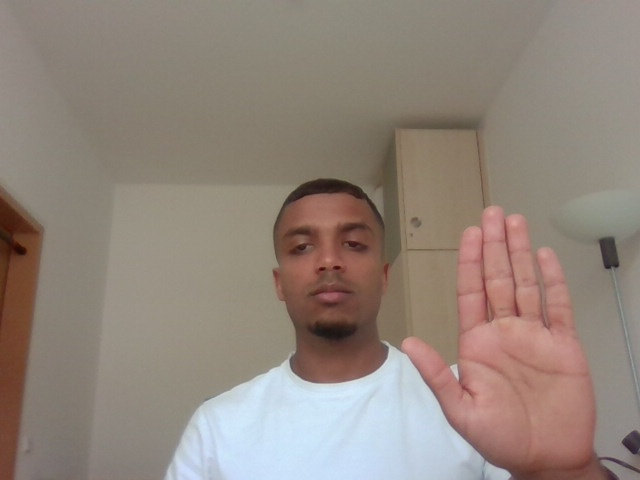never: (391, 199, 620, 480)
